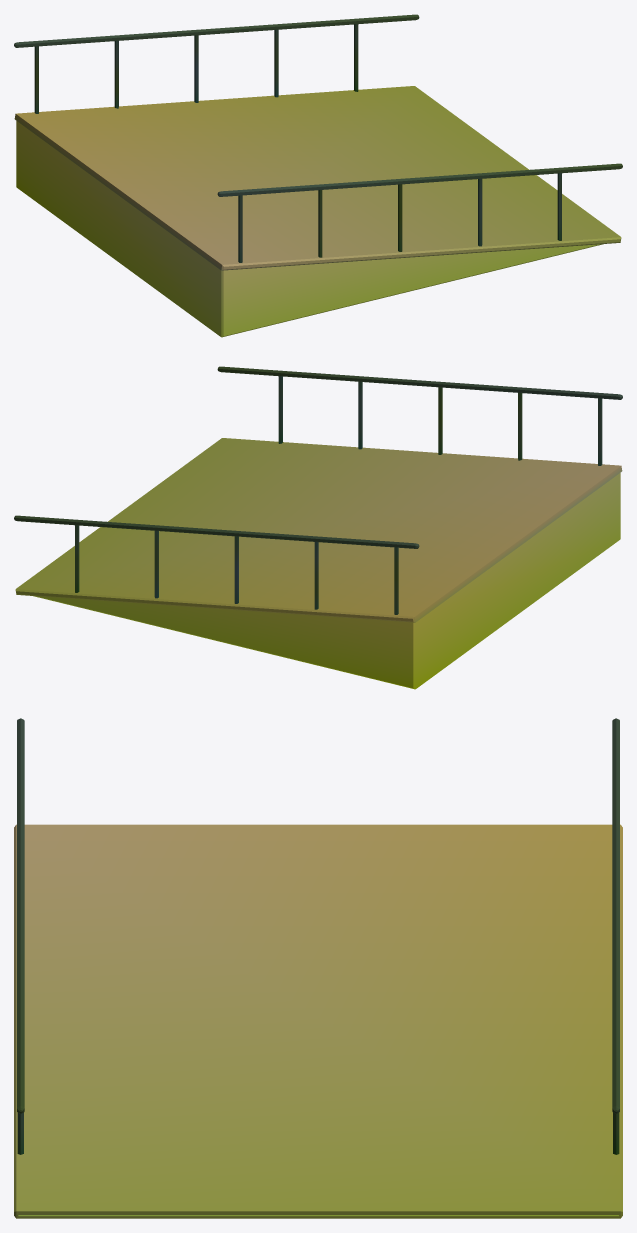
File: GS_Platform_Island_End.fbx
3 renders of one model, top to bottom at view 1: azimuth 30°, elevation 25°; view 2: azimuth 150°, elevation 25°; view 3: azimuth 270°, elevation 25°, orthographic. The views are drawn at different scales.
Parts seen in each view (by area): view 1: GS_Platform_Island_End; view 2: GS_Platform_Island_End; view 3: GS_Platform_Island_End.
Boxes of the visible parts, <box> form: GS_Platform_Island_End: <box>14,14,622,337</box>; GS_Platform_Island_End: <box>14,366,622,689</box>; GS_Platform_Island_End: <box>14,718,622,1218</box>.
Size of the model in its own units: 6.08 by 2.12 by 5.42.
